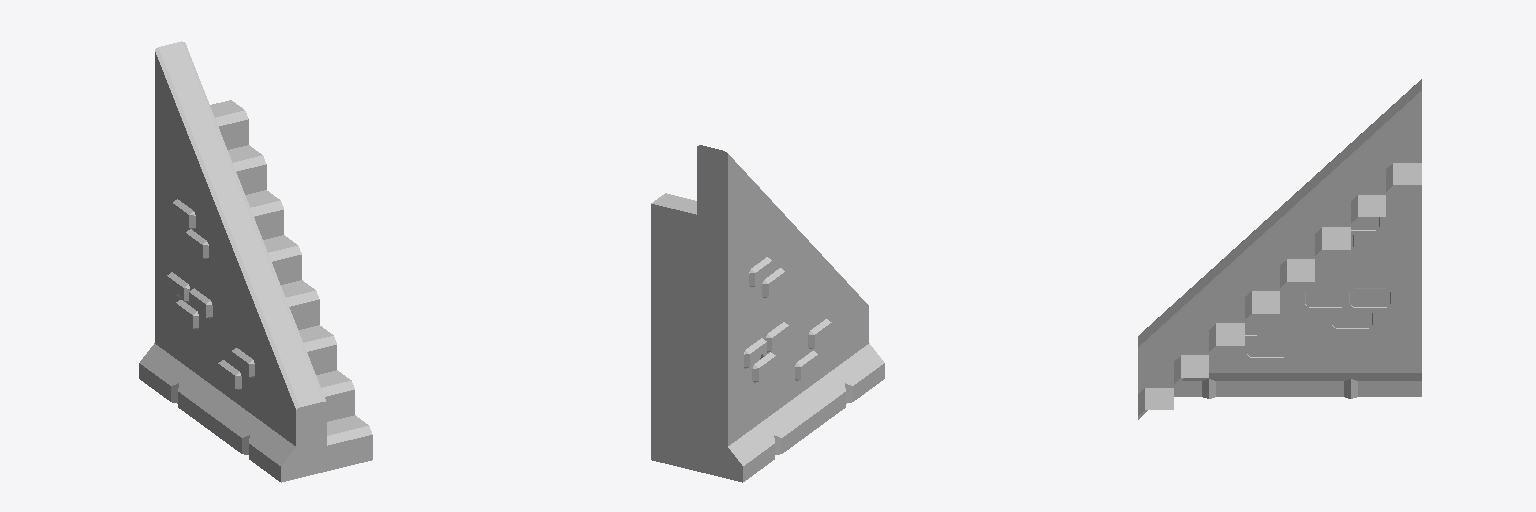
The model's file is stairs_modular_left.obj.
The picture shows the model from 3 angles: view 1: azimuth 30°, elevation 25°; view 2: azimuth 150°, elevation 25°; view 3: azimuth 270°, elevation 25°; orthographic projection.
Visible parts, largest first — view 1: stairs_modular_left; view 2: stairs_modular_left; view 3: stairs_modular_left.
Part boxes in pixels (bbox=[...]): stairs_modular_left: bbox=[139, 41, 372, 482]; stairs_modular_left: bbox=[651, 145, 884, 482]; stairs_modular_left: bbox=[1138, 79, 1421, 419].
Bounding box in the file's own units: 1.5 × 5.1 × 4.